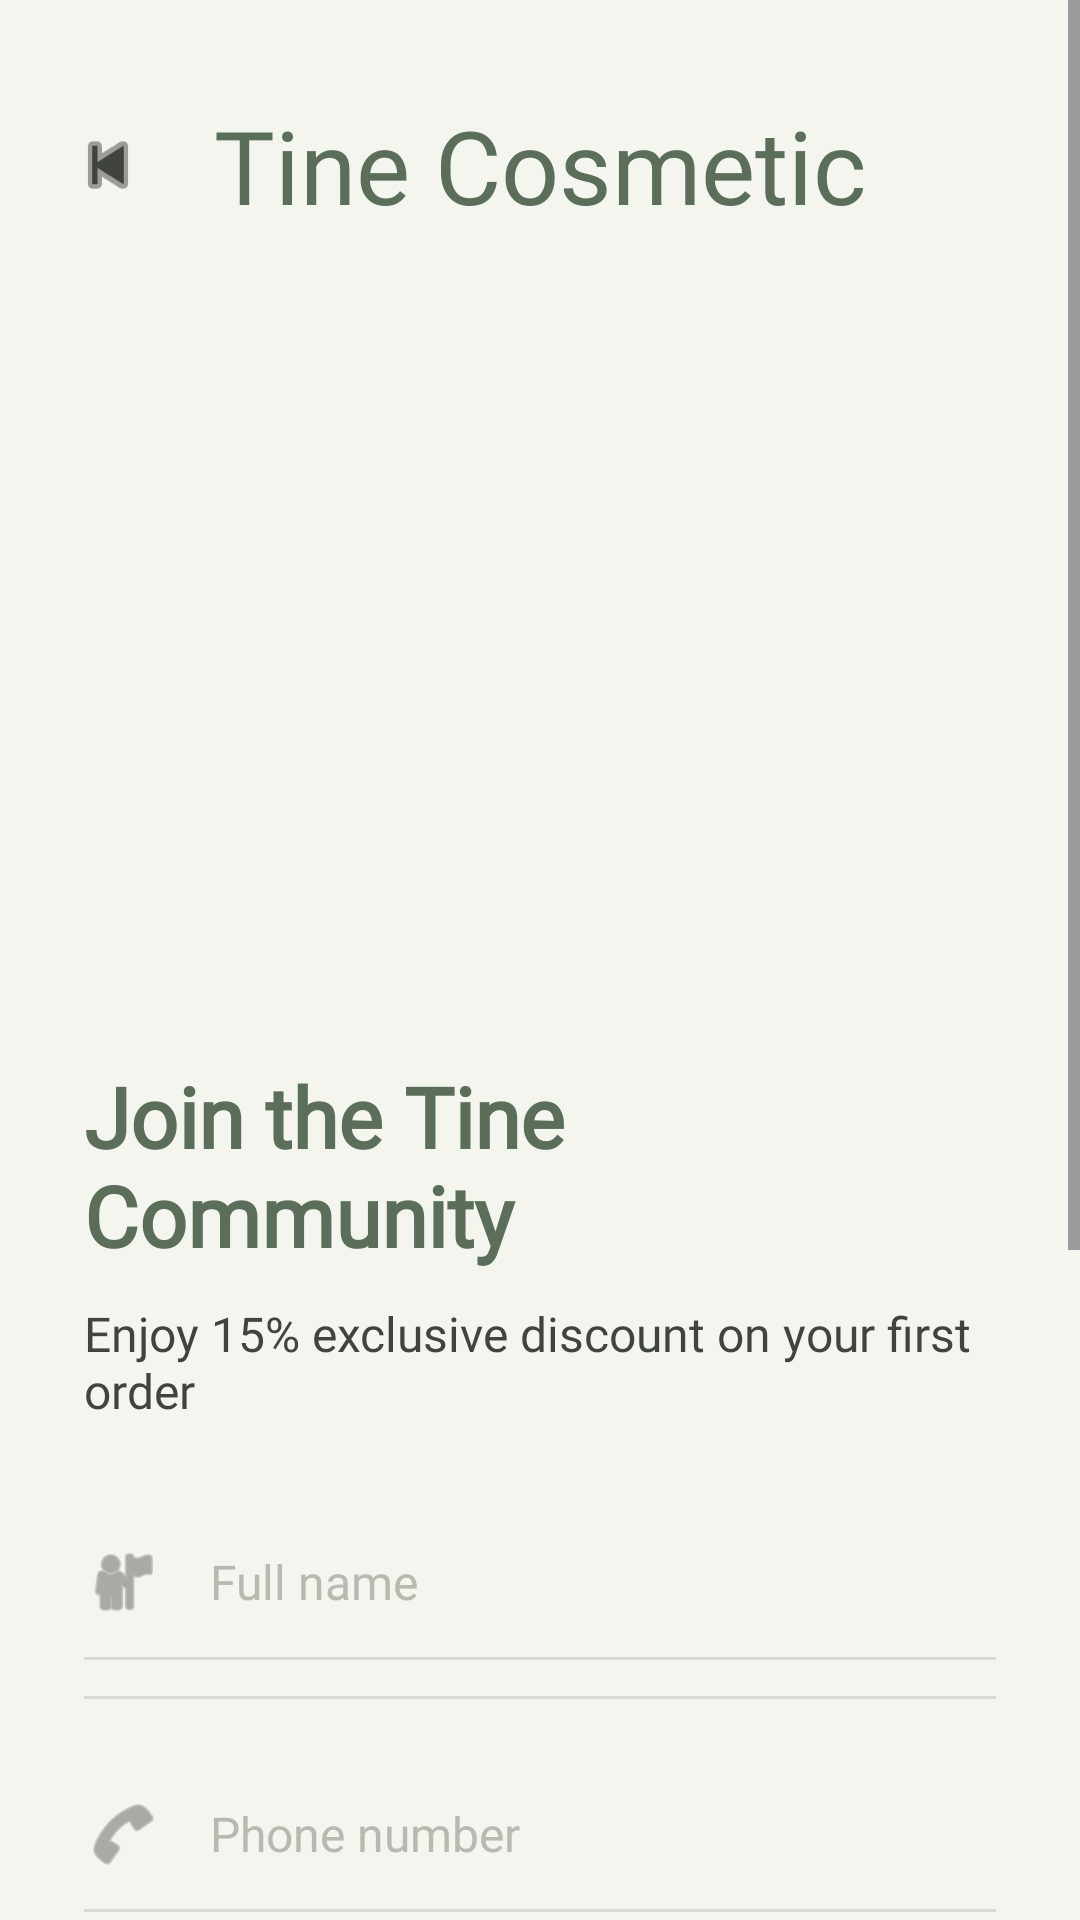

Icons on this 1080px×1920px Android screen, each with its box as (x1, y1, x2, y2):
call: (93, 1804, 154, 1865)
myplaces: (95, 1553, 153, 1611)
previous: (88, 141, 128, 189)
